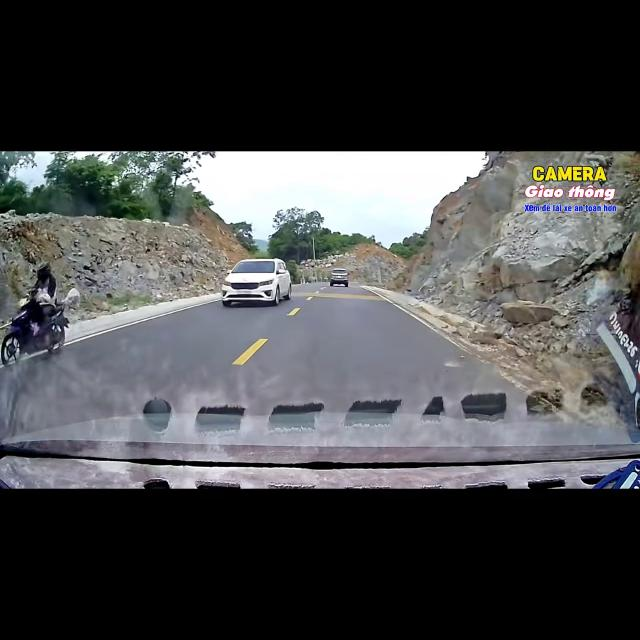car: (221, 259, 291, 306), (330, 268, 348, 286)
motorcycle: (0, 289, 77, 365)
